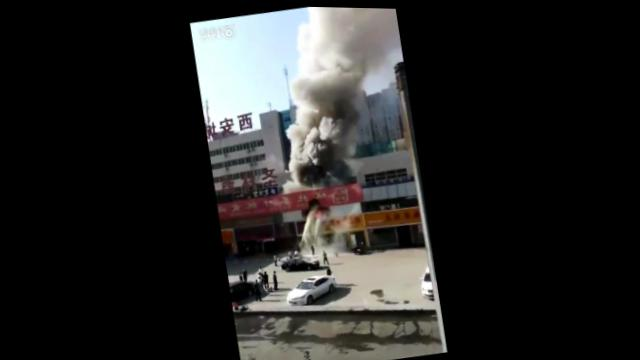smoke: (287, 55, 376, 125), (300, 5, 403, 65), (281, 116, 362, 185)
